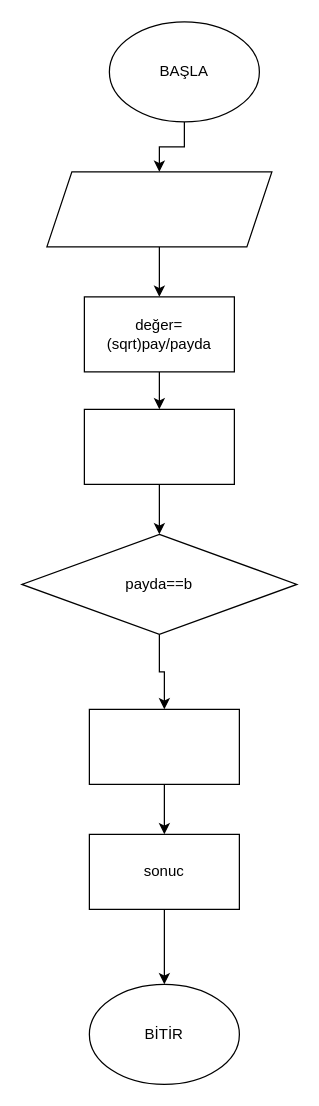
Some shapes in this 319 by 1106 pixel diagram are drawn without their labels. The shapes that lost their labels are listed below. From the top down, each one's centre as x and y in pixels, then its label:
the point at 159,209: pay,payda,değer,istenen
the point at 158,446: istenen=a/b
the point at 163,746: sonuc=a - pay
